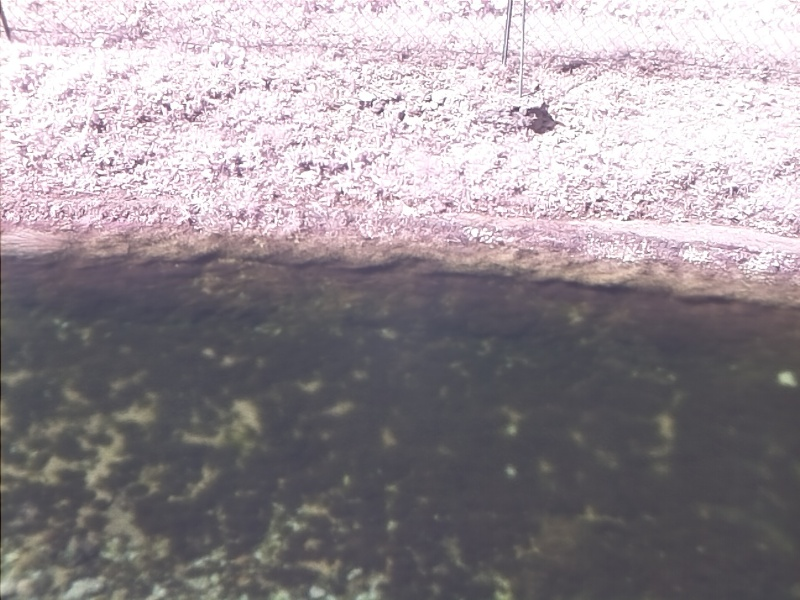Water: (1, 225, 798, 600)
